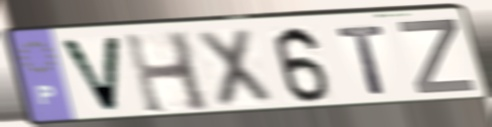6: (270, 24, 333, 105)
H: (120, 29, 215, 116)
T: (334, 23, 390, 97)
V: (56, 35, 125, 116)
X: (193, 26, 278, 110)
Z: (394, 17, 480, 97)
